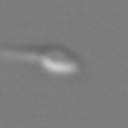normal: (1, 43, 40, 67)
